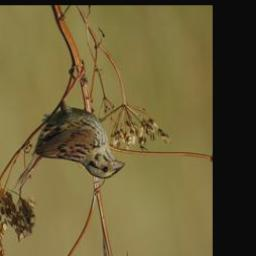Sparrow: (11, 60, 127, 192)
